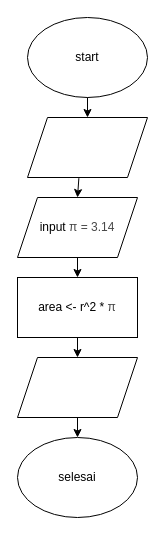
Some shapes in this 165 by 535 pixel diagram are drawn without their labels. Here are the shapes that lost their labels. From the top down, the box of each, then its label:
(26, 116, 148, 178): input r^2
(16, 356, 138, 418): print area
